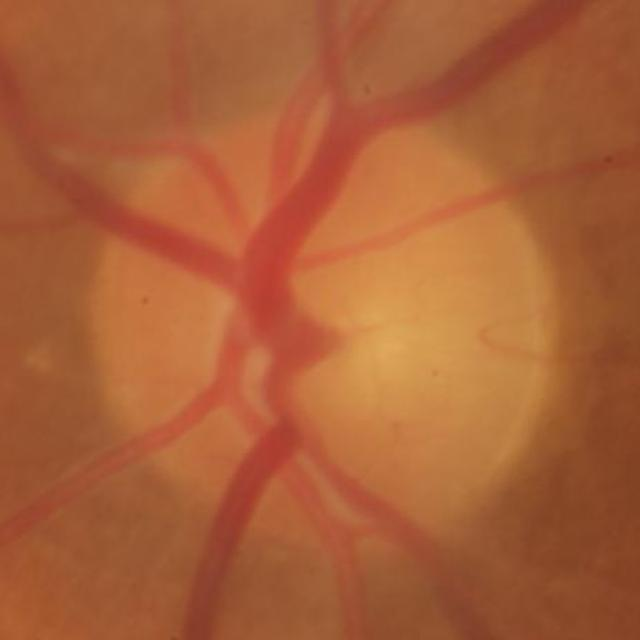OC: (211, 248, 421, 430)
OD: (83, 104, 557, 566)
